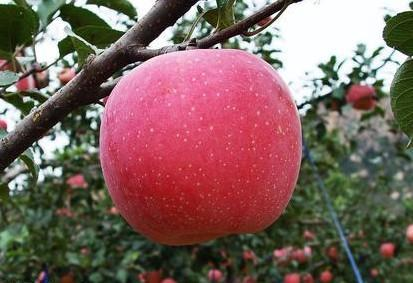apple: (97, 51, 303, 251), (379, 242, 395, 257)
